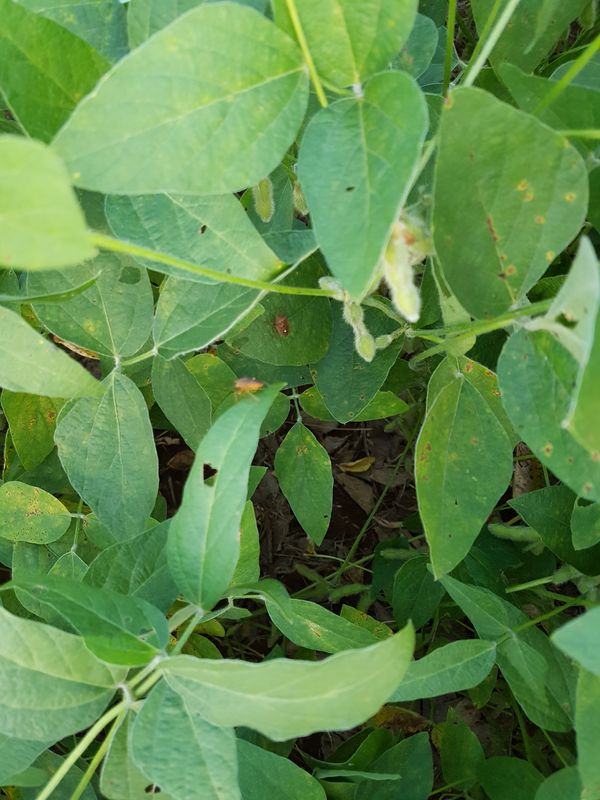Euschistus_heros_adulto: (226, 370, 270, 405), (264, 309, 297, 342)
